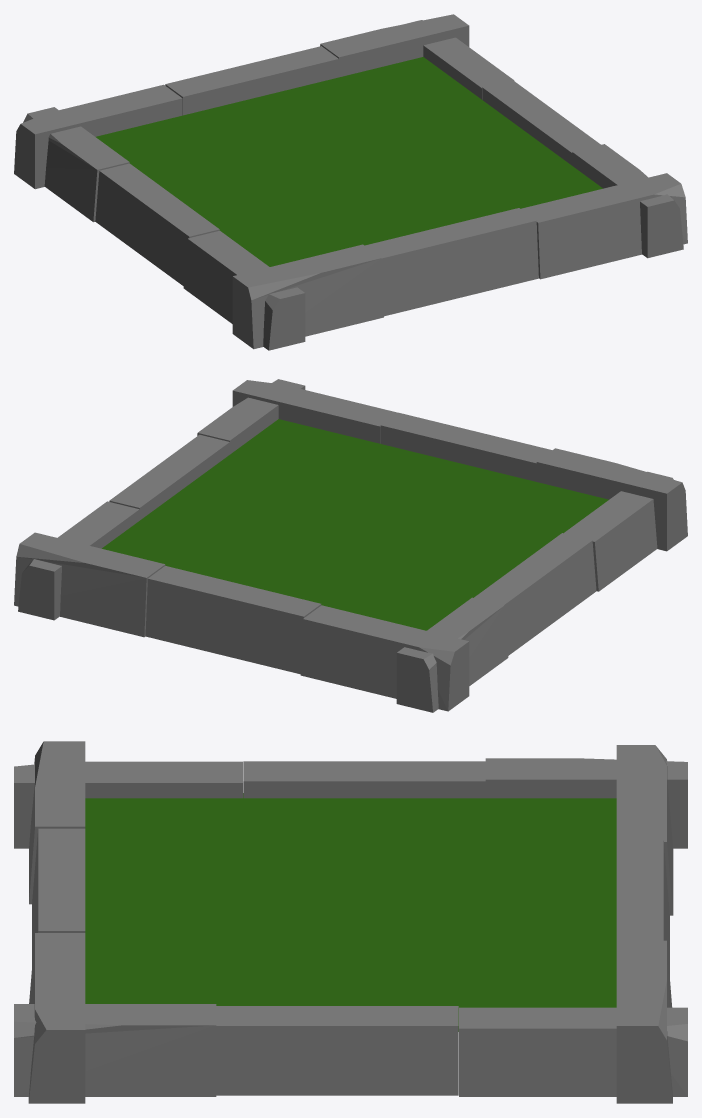
The model's file is SM_platform_small.fbx.
3 renders of one model, top to bottom at view 1: azimuth 30°, elevation 25°; view 2: azimuth 150°, elevation 25°; view 3: azimuth 270°, elevation 25°, orthographic. The views are drawn at different scales.
Visible parts, largest first — view 1: Box5807; view 2: Box5807; view 3: Box5807.
Part boxes in pixels (bbox=[...]): Box5807: bbox=[14, 14, 687, 350]; Box5807: bbox=[14, 379, 687, 712]; Box5807: bbox=[14, 741, 687, 1103].
Size of the model in its own units: 99.88 by 12.69 by 99.88.
